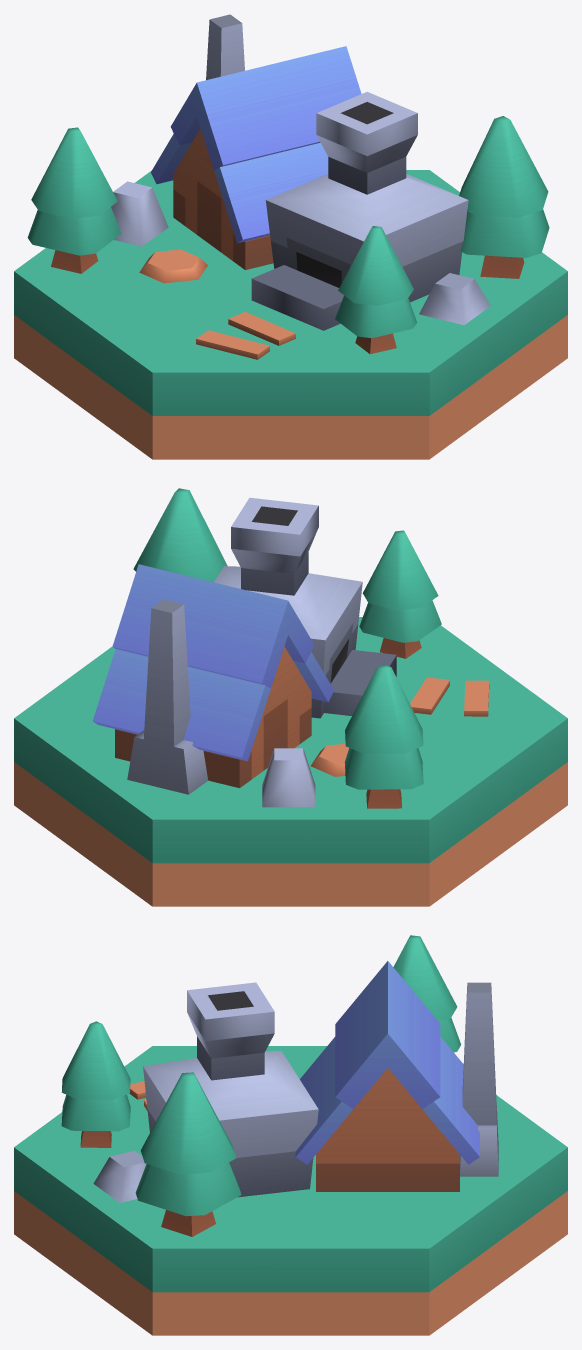
The model's file is building-smelter.fbx.
The picture shows the model from 3 angles, top to bottom: view 1: azimuth 30°, elevation 25°; view 2: azimuth 150°, elevation 25°; view 3: azimuth 270°, elevation 25°; orthographic projection.
Visible parts, largest first — view 1: building_smelter; view 2: building_smelter; view 3: building_smelter.
Part boxes in pixels (left/top/right/bottom): building_smelter: left=14, top=14, right=567, bottom=459; building_smelter: left=14, top=488, right=567, bottom=906; building_smelter: left=14, top=935, right=567, bottom=1335.
Bounding box in the file's own units: 100 × 60 × 115.
1 material, 1 textured.
